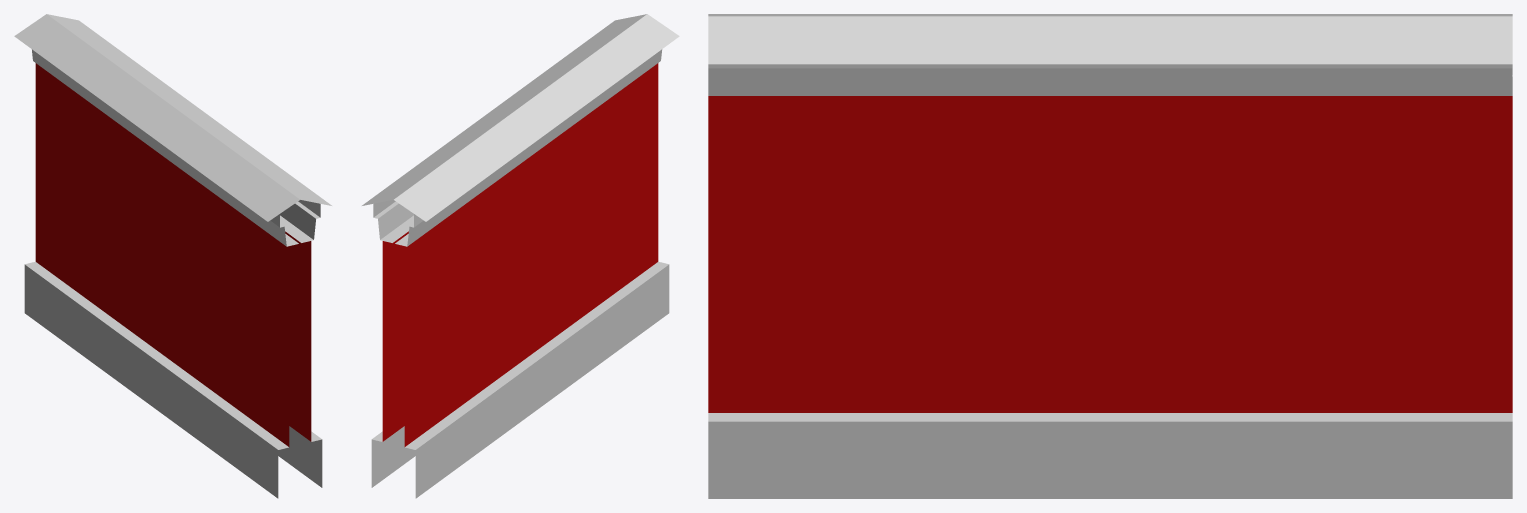
The model's file is fence.fbx.
3 renders of one model, left to right at view 1: azimuth 30°, elevation 25°; view 2: azimuth 150°, elevation 25°; view 3: azimuth 270°, elevation 25°, orthographic. The views are drawn at different scales.
Parts seen in each view (by area): view 1: transform840; view 2: transform840; view 3: transform840.
Boxes of the visible parts, box(x1,y1,x2,y2) form: transform840: box(14, 14, 331, 498); transform840: box(362, 14, 679, 498); transform840: box(708, 14, 1512, 498).
Bounding box in the file's own units: 1.18 × 5.11 × 8.
